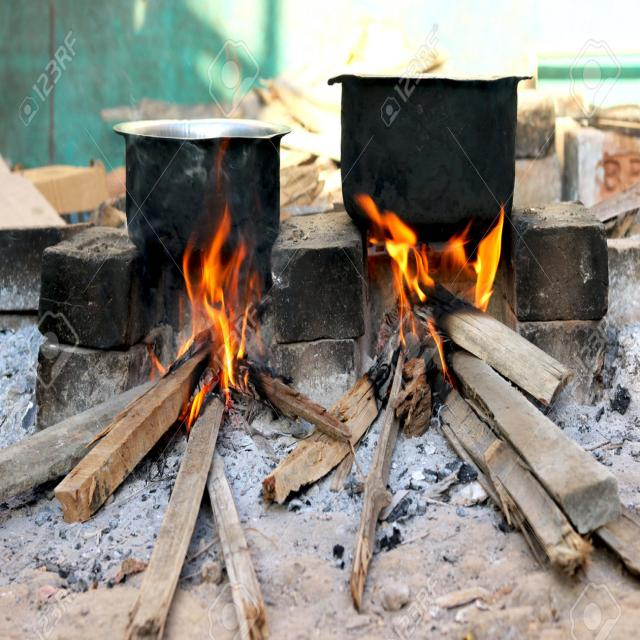fire: (204, 294, 237, 404), (473, 202, 505, 312), (201, 195, 232, 303), (356, 193, 417, 244), (386, 244, 435, 302), (391, 258, 416, 348), (182, 246, 195, 354), (427, 318, 450, 378)
